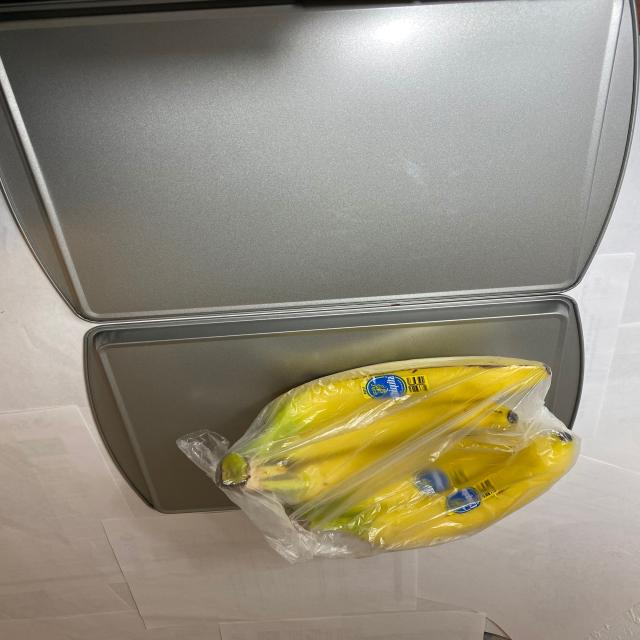banana: (199, 347, 576, 566)
